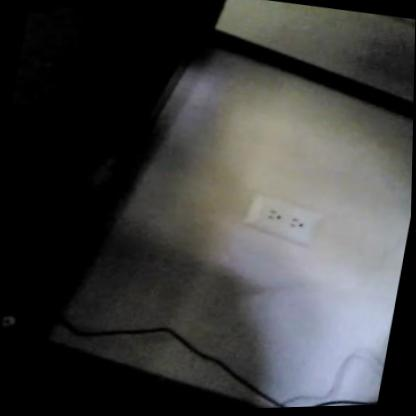OUTLET: (249, 196, 320, 240)
